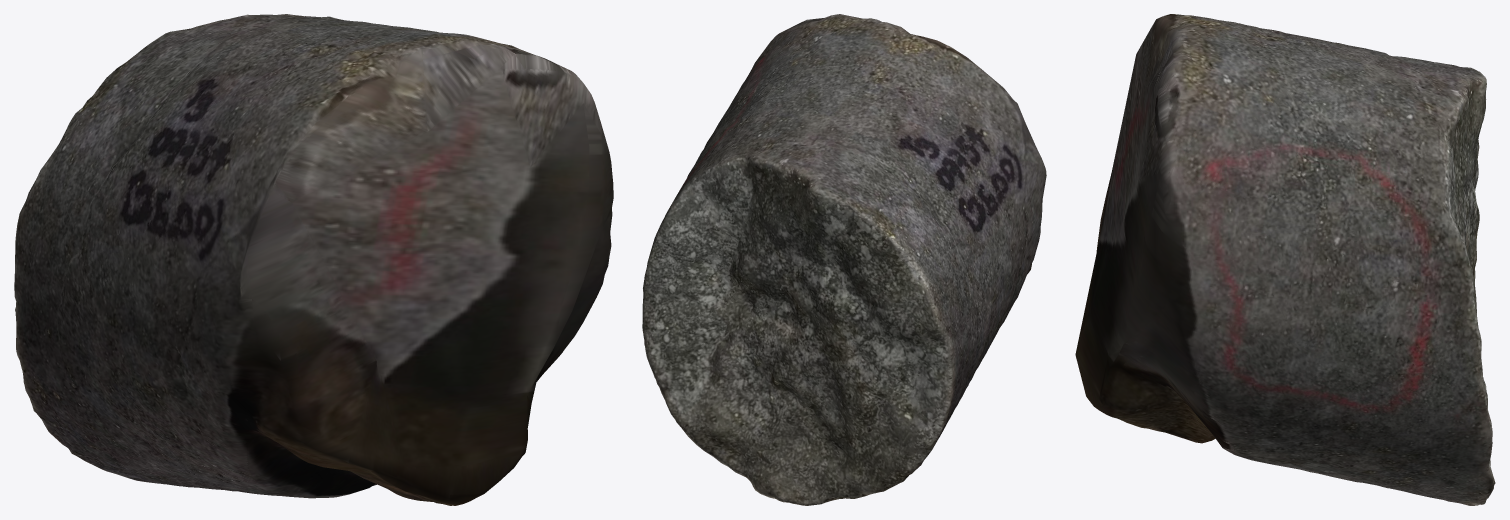
The model's file is PECLD07757 T3.glb.
3 renders of one model, left to right at view 1: azimuth 30°, elevation 25°; view 2: azimuth 150°, elevation 25°; view 3: azimuth 270°, elevation 25°, orthographic. The views are drawn at different scales.
Visible parts, largest first — view 1: baked_mesh; view 2: baked_mesh; view 3: baked_mesh.
Boxes of the visible parts, bbox=[...] form: baked_mesh: bbox=[14, 14, 613, 505]; baked_mesh: bbox=[642, 14, 1046, 505]; baked_mesh: bbox=[1075, 14, 1495, 505].
Size of the model in its own units: 0.3424 by 0.3868 by 0.3101.
Materials: 1 (1 with a texture image).
